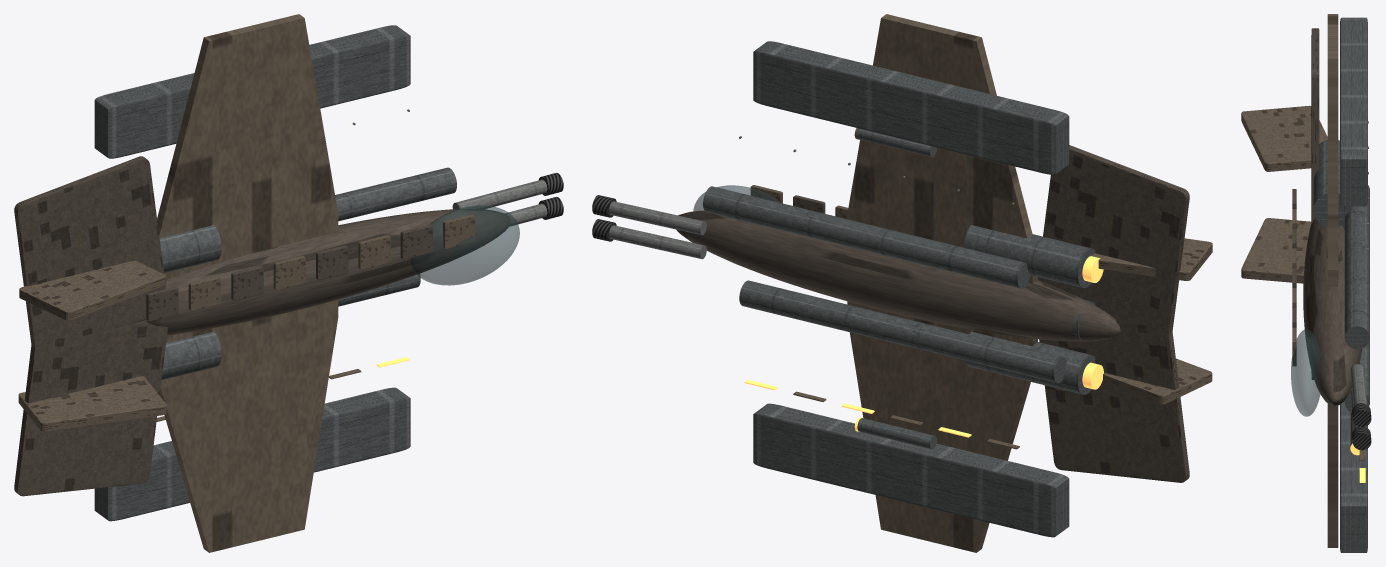
Rendered from d-u30-dominion-aerial-artillery-lod0.glb.
3 renders of one model, left to right at view 1: azimuth 30°, elevation 25°; view 2: azimuth 150°, elevation 25°; view 3: azimuth 270°, elevation 25°, orthographic. The views are drawn at different scales.
Parts seen in each view (by area): view 1: combat_main_wing, combat_tailplane_-1, combat_tailplane_1, combat_fuselage, artillery_pod_1, artillery_pod_-1, combat_canopy, combat_fin_-1, combat_fin_1, aerial_launcher_5, combat_engine_2, combat_engine_0 (+11 smaller); view 2: combat_main_wing, combat_fuselage, artillery_pod_1, artillery_pod_-1, combat_tailplane_1, combat_tailplane_-1, aerial_launcher_1, combat_engine_2, aerial_launcher_0, aerial_launcher_2, aerial_launcher_3, aerial_launcher_5 (+8 smaller); view 3: combat_fuselage, artillery_pod_1, combat_main_wing, combat_fin_1, combat_fin_-1, artillery_pod_-1, combat_canopy, aerial_launcher_5, combat_tailplane_1, combat_engine_2, aerial_launcher_3, aerial_launcher_1 (+5 smaller).
Part boxes in pixels (x1,y1,x2,y2): combat_main_wing: [157, 14, 338, 552]; combat_tailplane_-1: [14, 322, 167, 496]; combat_tailplane_1: [14, 156, 165, 351]; combat_fuselage: [139, 209, 510, 335]; artillery_pod_1: [94, 25, 410, 158]; artillery_pod_-1: [94, 387, 410, 521]; combat_canopy: [410, 205, 519, 285]; combat_fin_-1: [18, 376, 166, 431]; combat_fin_1: [19, 260, 166, 320]; aerial_launcher_5: [335, 167, 456, 218]; combat_engine_2: [159, 225, 221, 272]; combat_engine_0: [161, 331, 221, 379]; combat_main_wing: [847, 14, 1037, 552]; combat_fuselage: [676, 210, 1120, 341]; artillery_pod_1: [753, 41, 1069, 174]; artillery_pod_-1: [753, 403, 1069, 537]; combat_tailplane_1: [1038, 145, 1189, 337]; combat_tailplane_-1: [1039, 322, 1189, 482]; aerial_launcher_1: [849, 223, 1030, 288]; combat_engine_2: [964, 225, 1095, 288]; aerial_launcher_0: [885, 316, 1066, 382]; aerial_launcher_2: [812, 298, 990, 364]; aerial_launcher_3: [775, 204, 951, 265]; aerial_launcher_5: [703, 186, 877, 252]; combat_fuselage: [1303, 218, 1362, 406]; artillery_pod_1: [1340, 17, 1367, 206]; combat_main_wing: [1327, 14, 1338, 547]; combat_fin_1: [1241, 105, 1327, 171]; combat_fin_-1: [1241, 218, 1311, 283]; artillery_pod_-1: [1340, 401, 1367, 552]; combat_canopy: [1291, 329, 1320, 416]; aerial_launcher_5: [1344, 247, 1369, 349]; combat_tailplane_1: [1311, 28, 1319, 223]; combat_engine_2: [1313, 140, 1352, 226]; aerial_launcher_3: [1344, 213, 1369, 300]; aerial_launcher_1: [1344, 185, 1369, 262].
Size of what is drawn, in the model's own units: 16.23 by 14 by 3.37.
7 materials, 7 textured.
